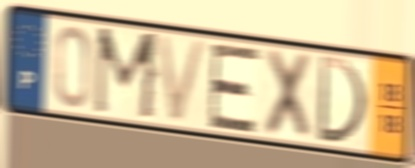0: (52, 23, 92, 111)
D: (314, 52, 370, 148)
E: (206, 42, 263, 136)
M: (90, 24, 162, 124)
V: (154, 32, 211, 128)
X: (260, 45, 314, 144)
